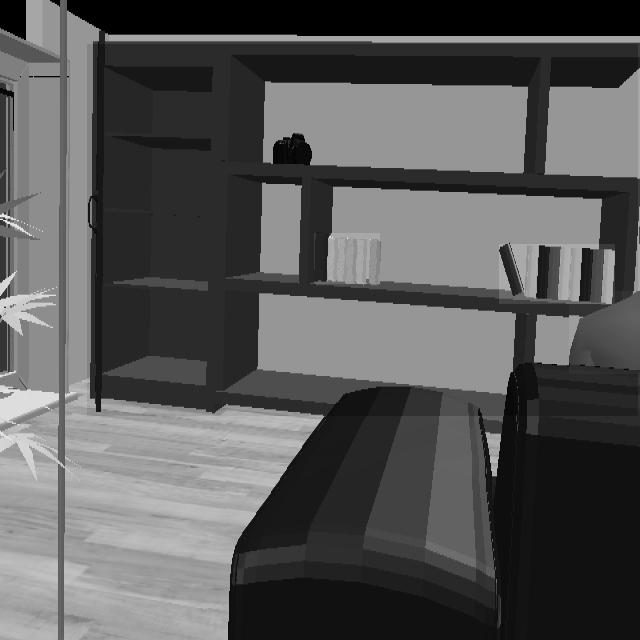book: (499, 244, 615, 304), (315, 233, 379, 283)
bookshelf: (87, 44, 638, 416)
person: (570, 292, 639, 373)
sofa: (226, 333, 640, 639)
